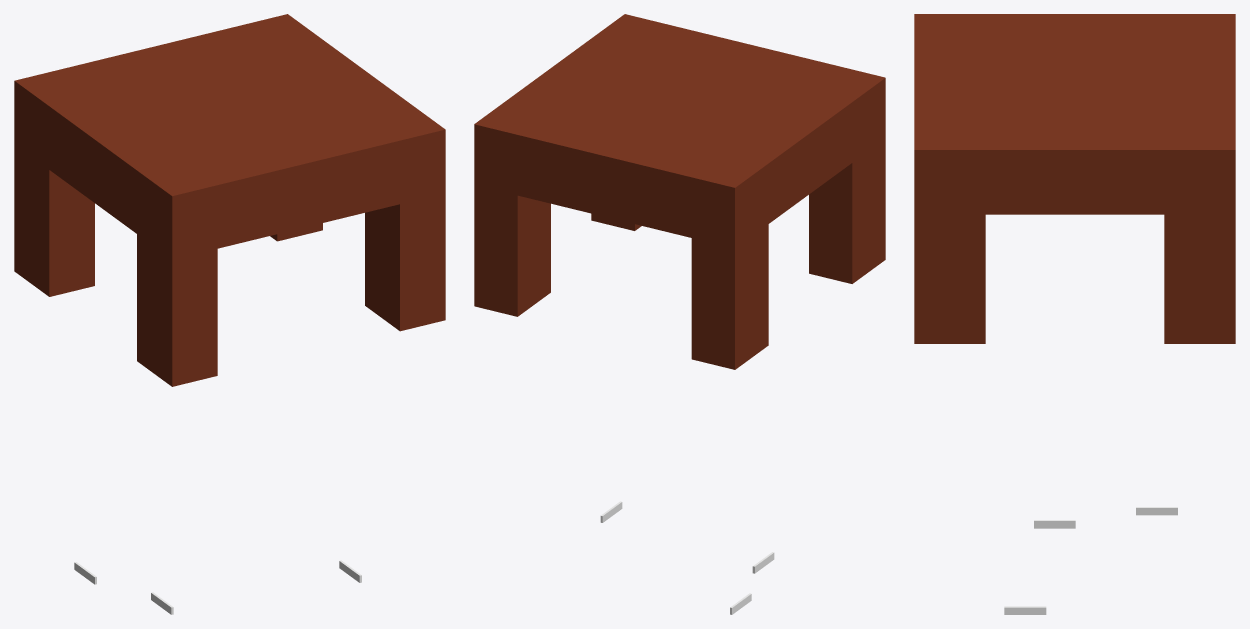
The model's file is problem_1.dae.
The picture shows the model from 3 angles, left to right: view 1: azimuth 30°, elevation 25°; view 2: azimuth 150°, elevation 25°; view 3: azimuth 270°, elevation 25°; orthographic projection. The views are drawn at different scales.
Visible parts, largest first — view 1: base (×4); view 2: base (×4); view 3: base (×3).
Boxes of the visible parts, x1,y1,x2,y2 form: base (×4): (14,14,445,386); base (×4): (474,14,885,369); base (×3): (914,14,1235,343).
Size of what is drawn, in the model's own units: 0.9 by 0.9 by 1.5.
